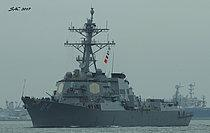MIL_Ship: (20, 10, 194, 127)
